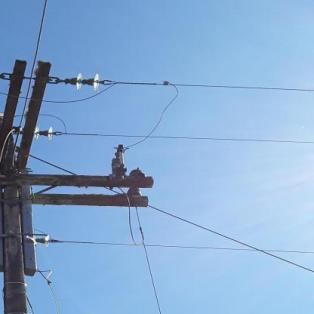Poste: (0, 116, 58, 314)
